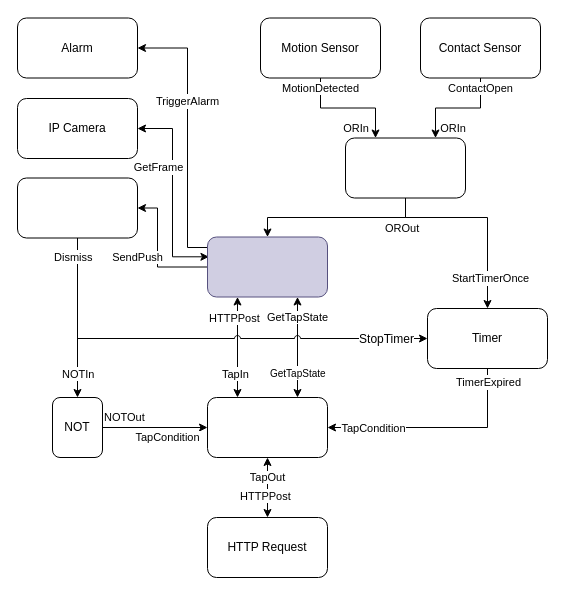
Image size: 565x595. Some labels were removed from this diagram. Here are the shapes that lost their labels. From the top down, the centre of each, then its label:
the point at 405,167: OR
the point at 77,207: Push Notifier
the point at 267,266: App
the point at 267,427: Tap
